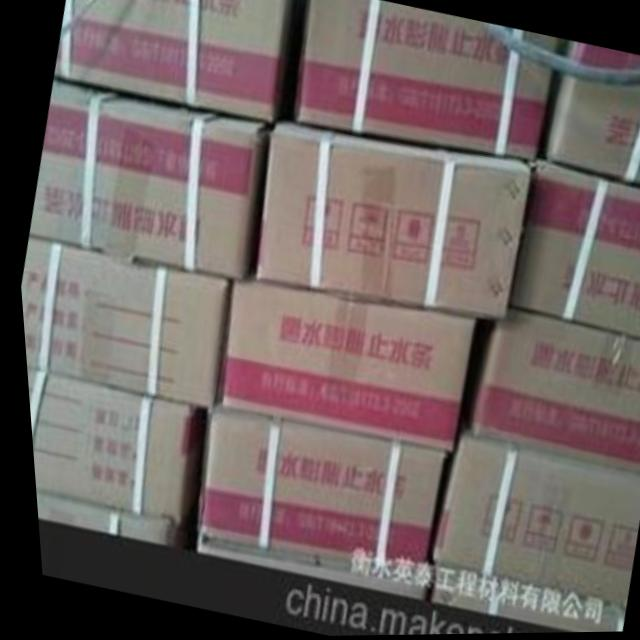box: (253, 115, 526, 320), (24, 77, 267, 282), (212, 268, 468, 452), (188, 406, 436, 586), (423, 405, 637, 610), (289, 0, 554, 162), (17, 239, 224, 411), (457, 308, 640, 477), (53, 0, 300, 124), (21, 367, 201, 524), (502, 153, 640, 342), (535, 41, 640, 188), (420, 567, 614, 634), (29, 490, 190, 549)
